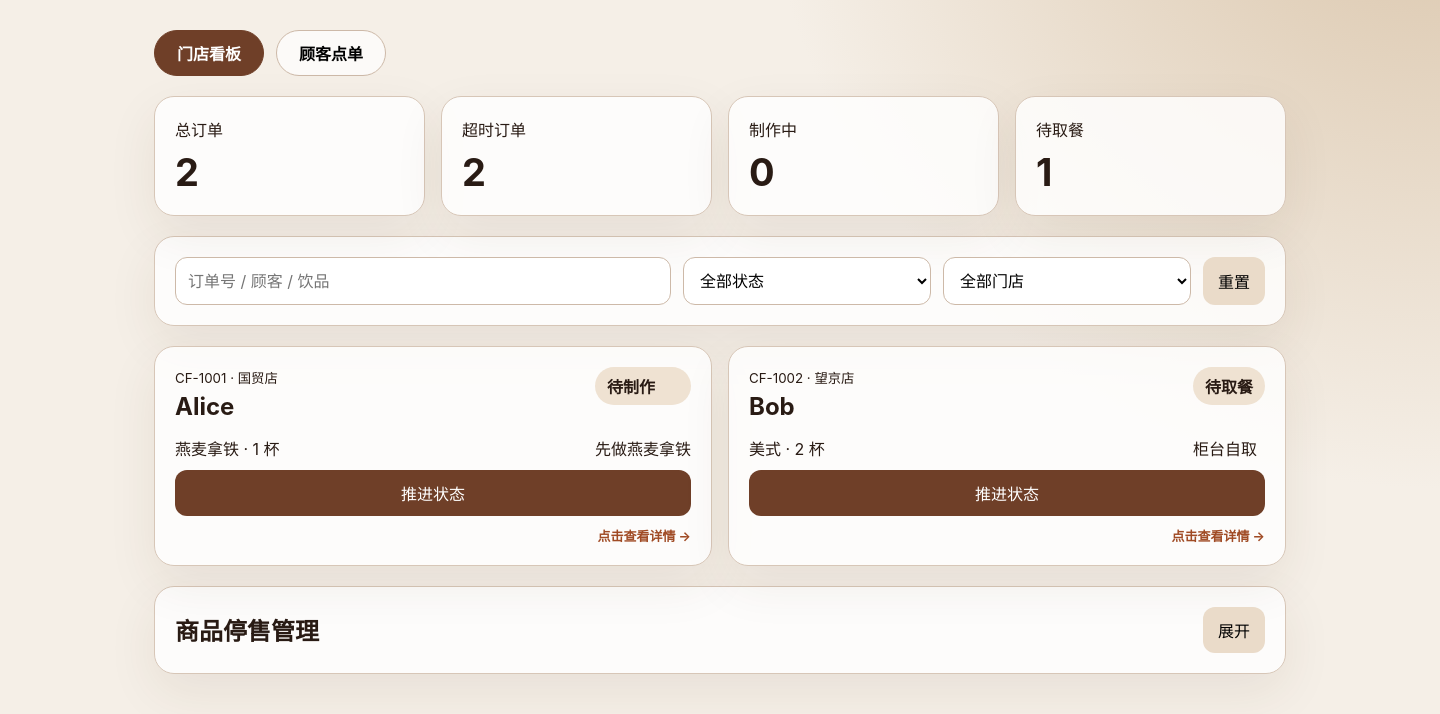
CoffeeFlow V1 顾客点单 › 门店看板可停售与恢复当前门店的商品
(page scrolled)
Step 1. Click the button with test id "stock-panel-toggle" → (1234, 630), box [1203, 607, 1265, 653]
(page scrolled)
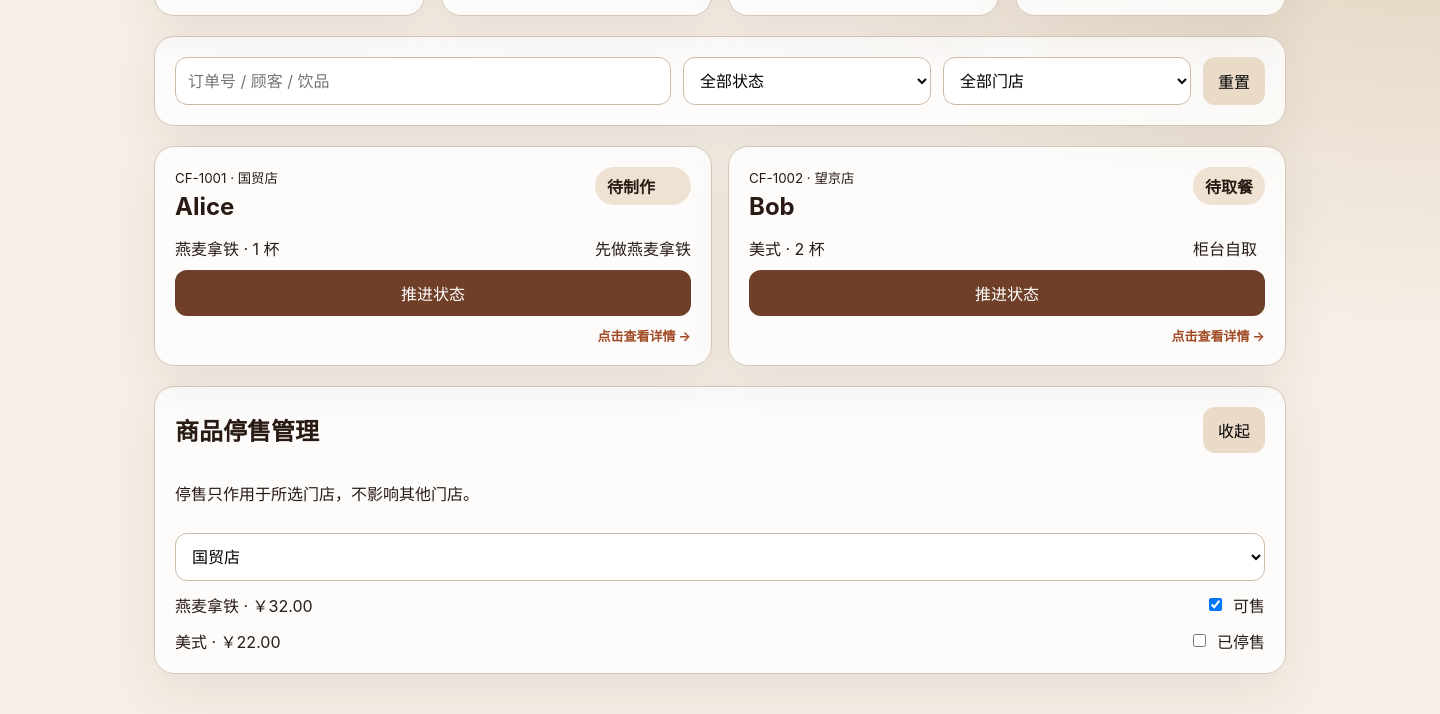
Expected: the element with test id "stock-product-CF-BEV-001" shows "可售", [1233, 596, 1265, 616]
Expected: the element with test id "stock-product-CF-BEV-002" shows "已停售", [1217, 632, 1265, 652]
Step 2. Click the checkbox with test id "product-availability-CF-BEV-001" → (1216, 605), box [1209, 598, 1222, 611]
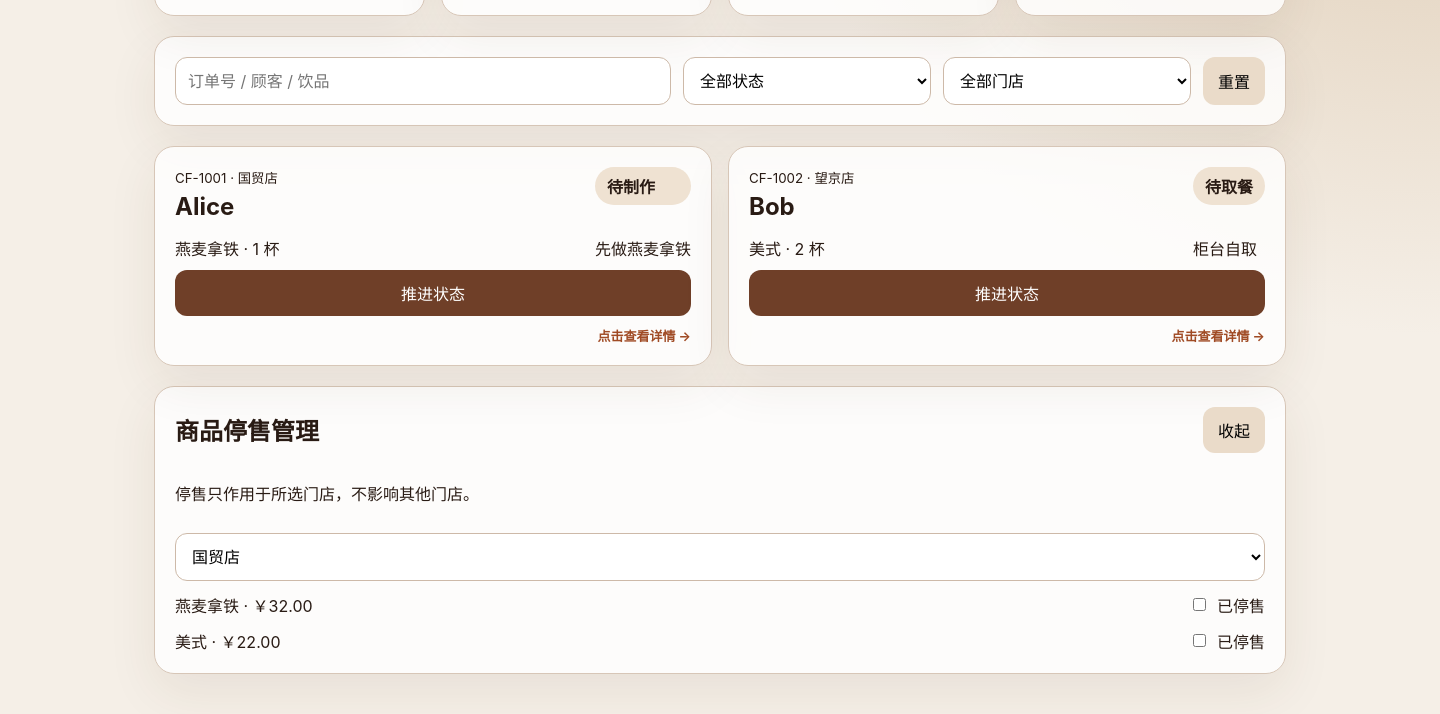
Expected: the element with test id "stock-product-CF-BEV-001" shows "已停售", [1217, 596, 1265, 616]
Step 3. Click the checkbox with test id "product-availability-CF-BEV-002" → (1200, 641), box [1193, 634, 1206, 647]
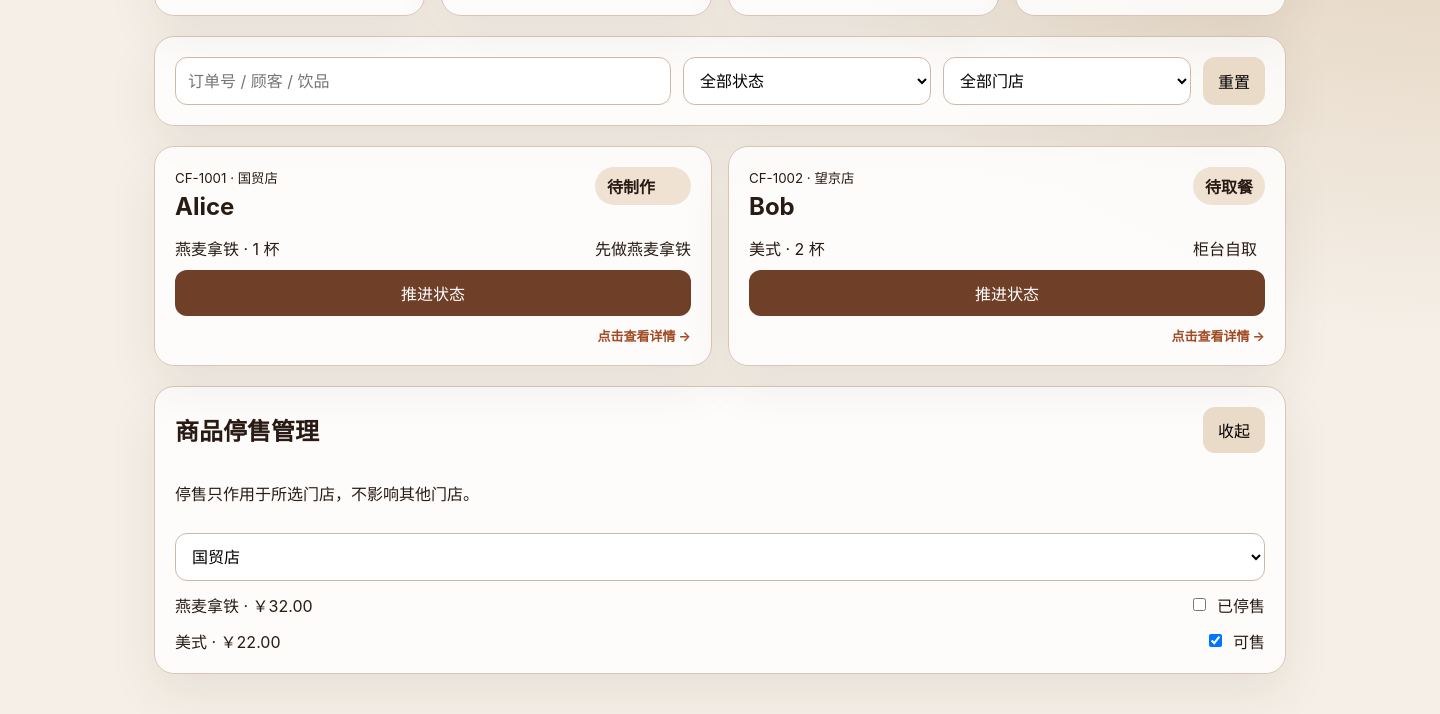
Expected: the element with test id "stock-product-CF-BEV-002" shows "可售", [1233, 632, 1265, 652]
